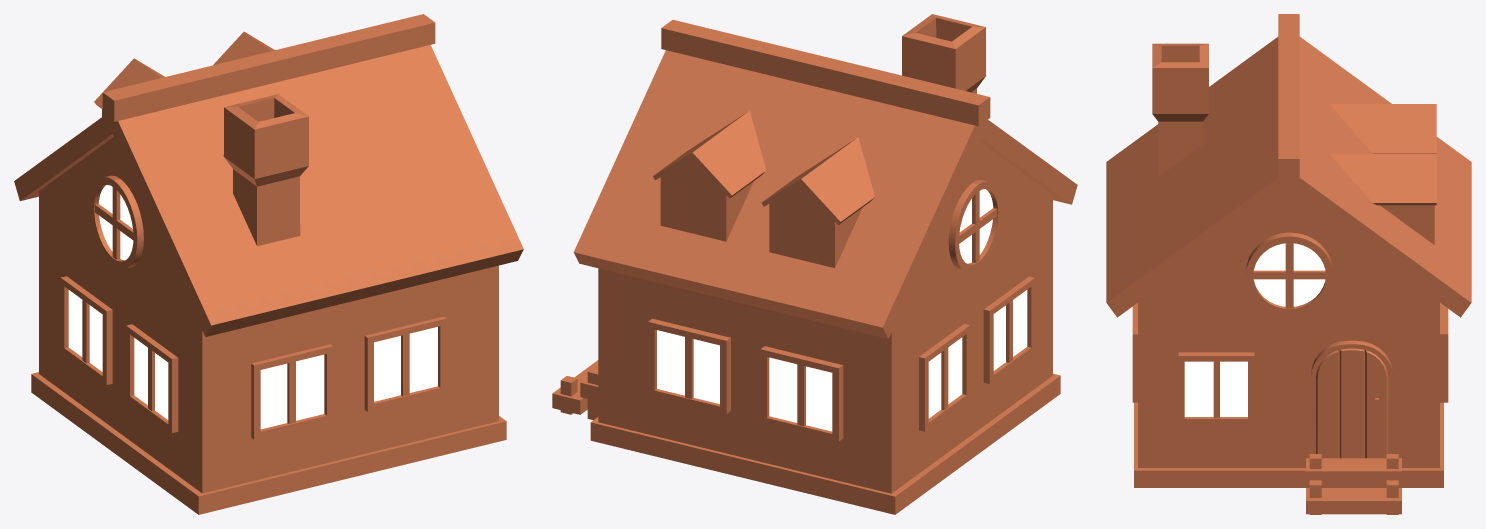
File: House.glb
3 views of the same model, side by side, from view 1: azimuth 30°, elevation 25°; view 2: azimuth 150°, elevation 25°; view 3: azimuth 270°, elevation 25° (orthographic). The views are drawn at different scales.
Visible parts, largest first — view 1: House; view 2: House; view 3: House.
Part boxes in pixels (bbox=[...]): House: bbox=[14, 14, 523, 514]; House: bbox=[552, 14, 1077, 514]; House: bbox=[1106, 14, 1471, 514].
Bounding box in the file's own units: 1.91 × 1.78 × 1.74.
2 materials, 1 textured.
